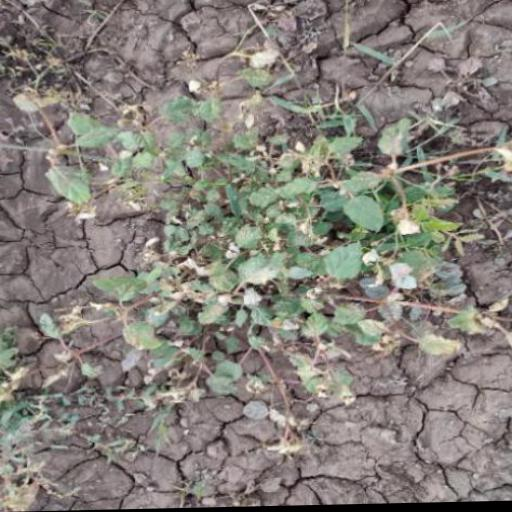weed: (129, 135, 512, 423)
